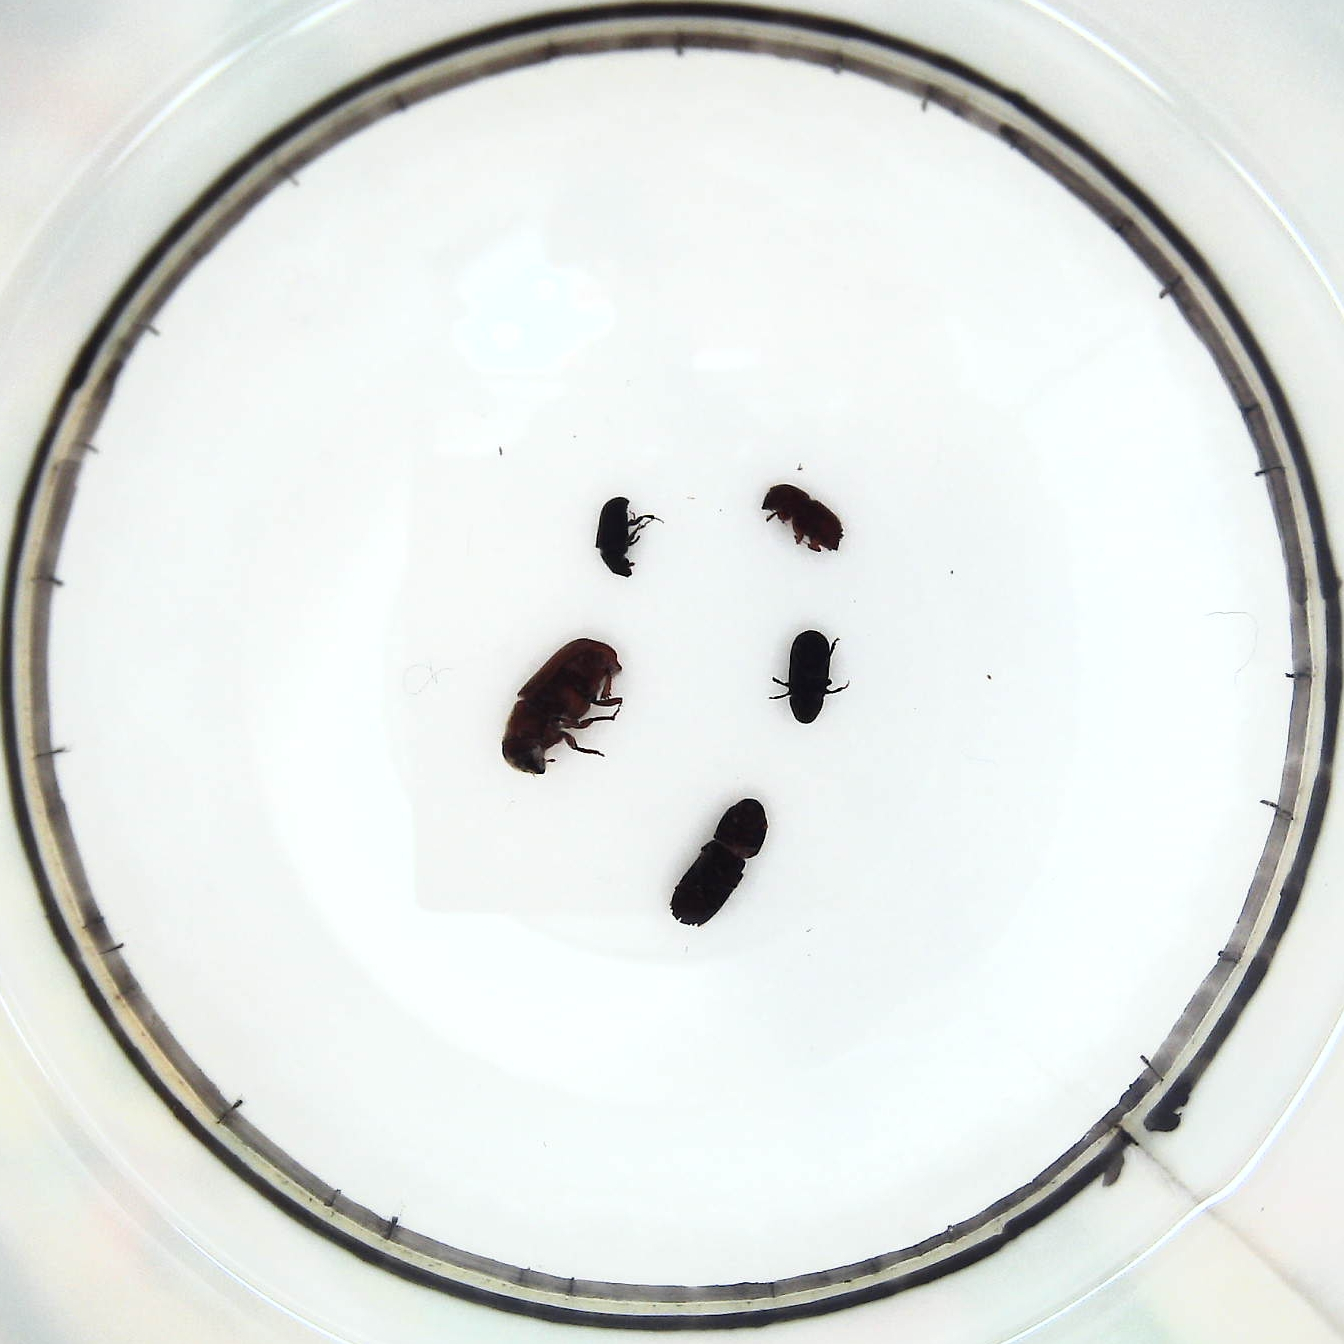Boerner: (665, 794, 770, 935)
Leconte: (496, 633, 623, 780)
armandi: (767, 626, 846, 729)
coleoptera: (592, 489, 665, 580)
linnaeus: (754, 480, 846, 560)
